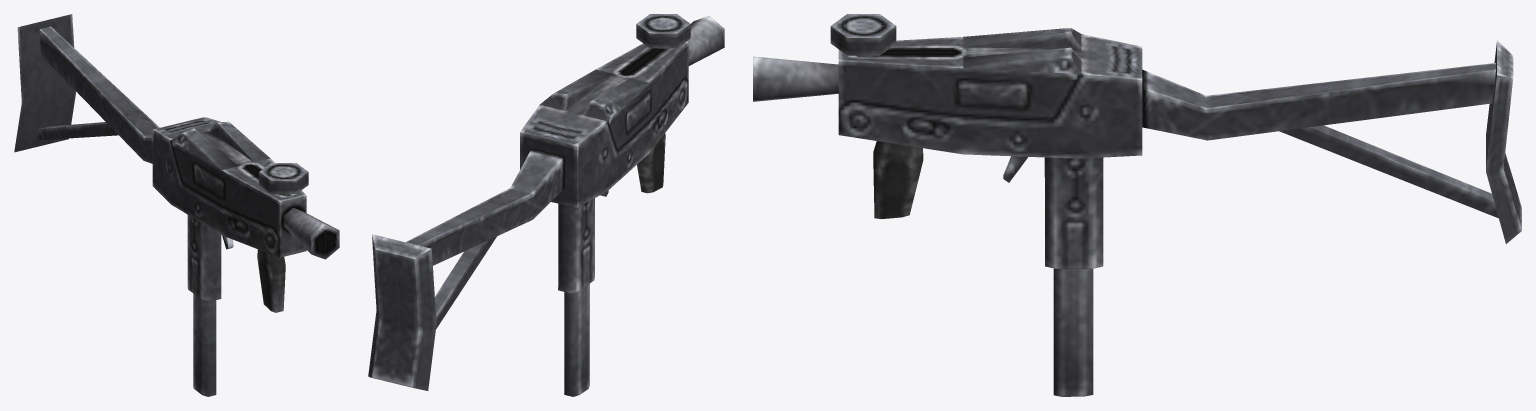
File: Uzi.FBX
3 views of the same model, side by side, from view 1: azimuth 30°, elevation 25°; view 2: azimuth 150°, elevation 25°; view 3: azimuth 270°, elevation 25° (orthographic). The views are drawn at different scales.
Parts seen in each view (by area): view 1: Uzi, Uzi_ammo, Uzi_bolt; view 2: Uzi, Uzi_ammo, Uzi_bolt; view 3: Uzi, Uzi_ammo, Uzi_bolt.
Boxes of the visible parts, left/top/right/bottom form: Uzi: left=14, top=14, right=339, bottom=312; Uzi_ammo: left=193, top=293, right=216, bottom=396; Uzi_bolt: left=259, top=163, right=308, bottom=194; Uzi: left=368, top=16, right=724, bottom=390; Uzi_ammo: left=564, top=284, right=589, bottom=396; Uzi_bolt: left=636, top=14, right=690, bottom=48; Uzi: left=753, top=28, right=1521, bottom=268; Uzi_ammo: left=1053, top=268, right=1093, bottom=396; Uzi_bolt: left=830, top=14, right=896, bottom=56.
Bounding box in the file's own units: 0.0592 × 0.2524 × 0.4797.
